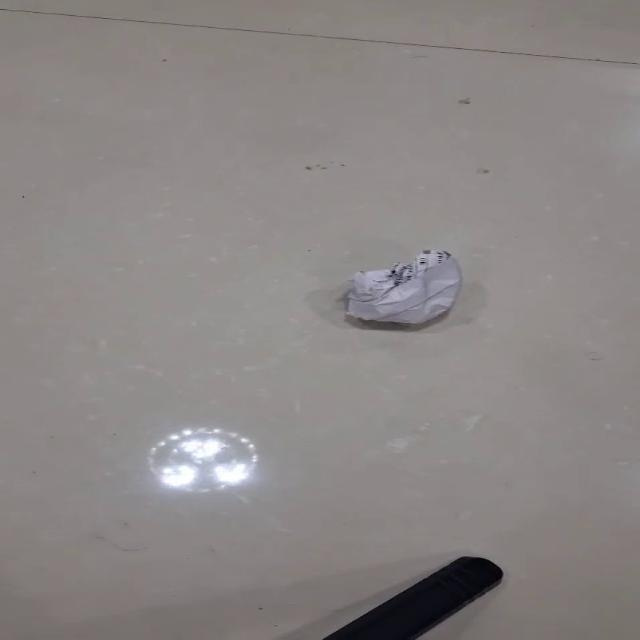paper: (343, 248, 462, 324)
